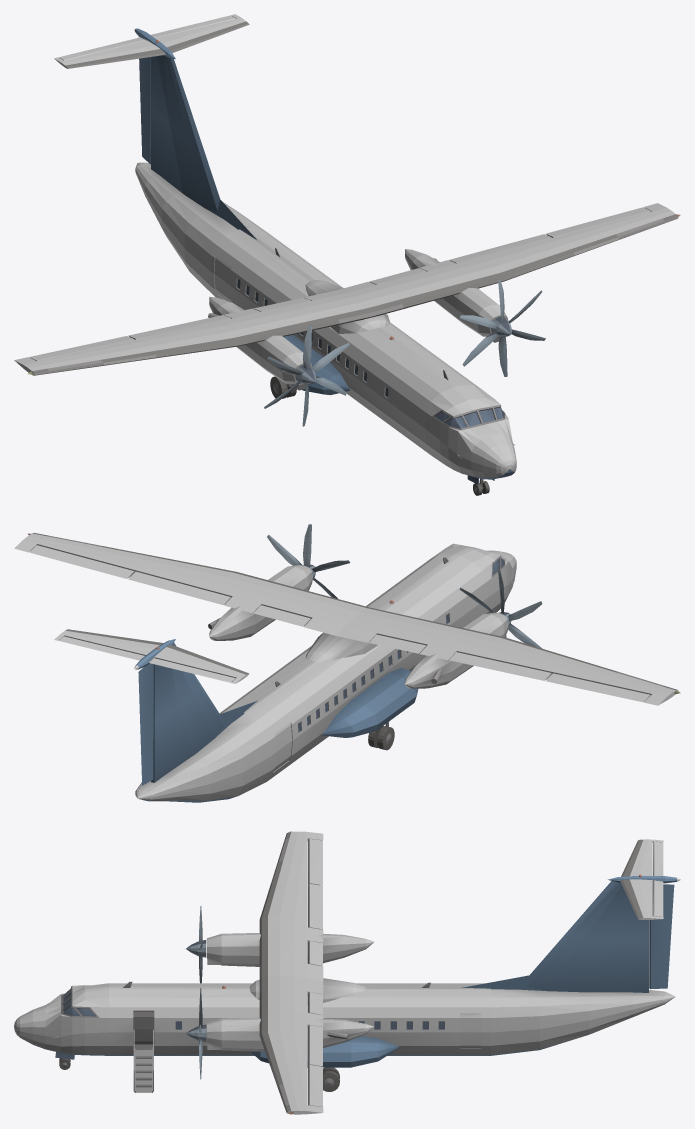
Rendered from turboprop.glb.
The picture shows the model from 3 angles, top to bottom: view 1: azimuth 30°, elevation 25°; view 2: azimuth 150°, elevation 25°; view 3: azimuth 270°, elevation 25°; orthographic projection. The views are drawn at different scales.
Visible parts, largest first — view 1: turboprop; view 2: turboprop; view 3: turboprop.
Boxes of the visible parts, x1,y1,x2,y2 form: turboprop: (14,14,680,495); turboprop: (14,524,680,802); turboprop: (14,831,680,1114).
Size of the model in its own units: 27.39 by 8.71 by 27.24.
